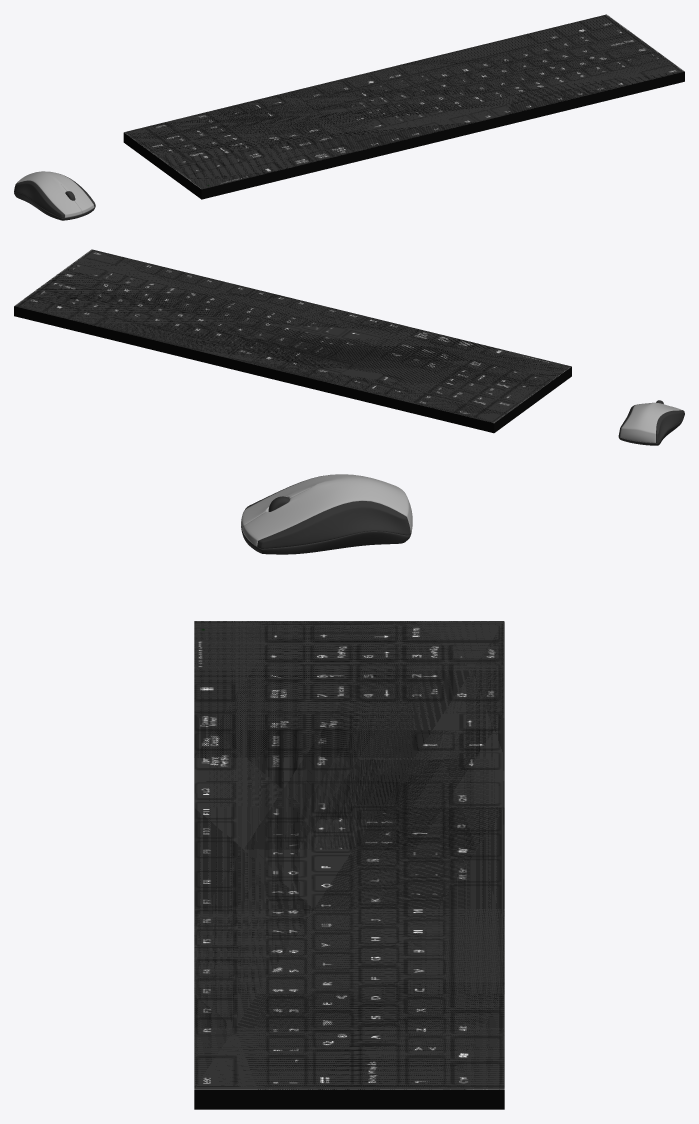
File: MouseETeclado.dae
The picture shows the model from 3 angles, top to bottom: view 1: azimuth 30°, elevation 25°; view 2: azimuth 150°, elevation 25°; view 3: azimuth 270°, elevation 25°; orthographic projection. The views are drawn at different scales.
Parts seen in each view (by area): view 1: instance_0 (×2), group_0 (×2); view 2: instance_0 (×2), group_0 (×2); view 3: instance_0 (×2), group_0 (×2).
Boxes of the visible parts, x1=… form: instance_0 (×2): x1=123, y1=14, x2=684, y2=199; group_0 (×2): x1=14, y1=171, x2=95, y2=220; instance_0 (×2): x1=14, y1=249, x2=571, y2=433; group_0 (×2): x1=618, y1=402, x2=684, y2=445; instance_0 (×2): x1=194, y1=621, x2=504, y2=1109; group_0 (×2): x1=241, y1=474, x2=412, y2=554.
Size of the model in its own units: 25.29 by 5.51 by 0.9898.
4 materials, 1 textured.
